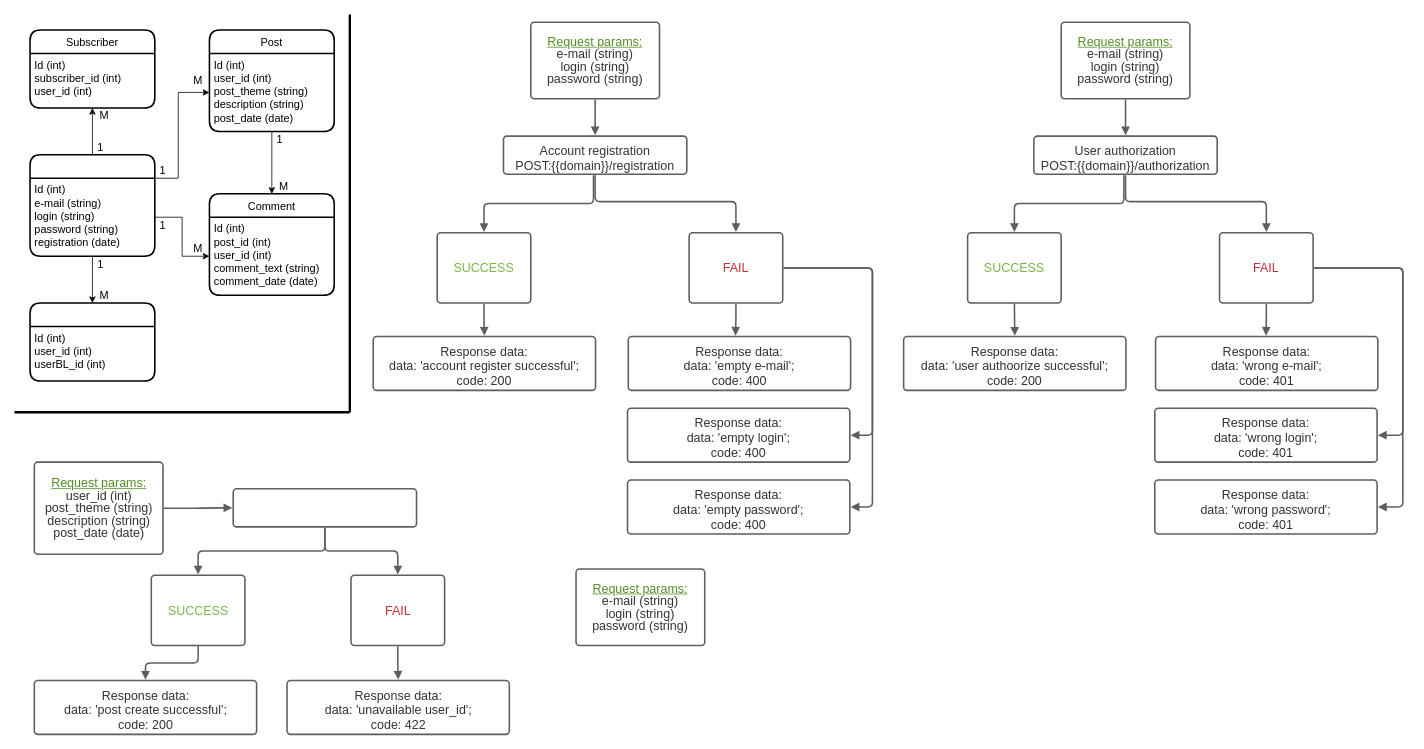
Image size: 1424x749. Some labels were removed from this diagram. The shapes that lost their labels are listed below. From the top down, each one's box as (x1, y1, x2, y2) in pixels, then its label:
(29, 154, 155, 257): User
(29, 302, 155, 381): Black List
(232, 488, 417, 527): Create new post POST:{{domain}}/create-post
